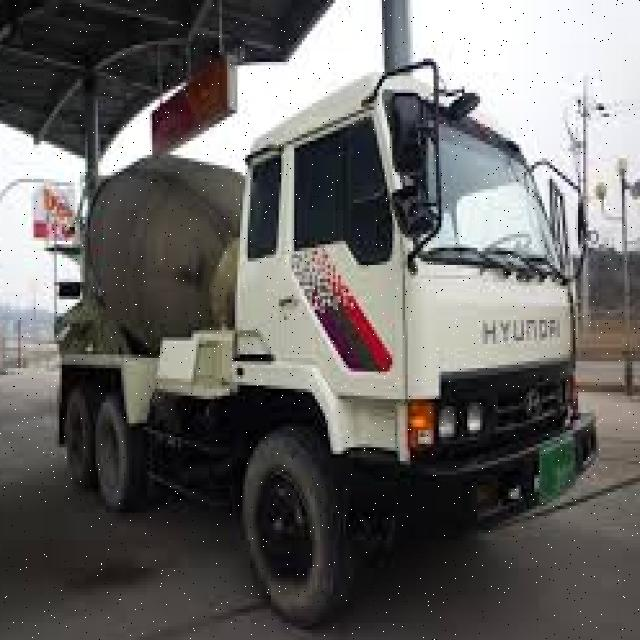Mixer Truck: (52, 55, 600, 636)
